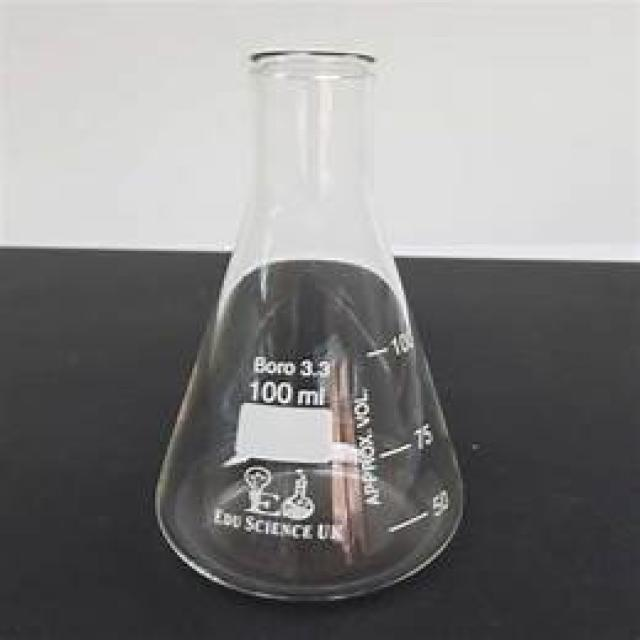Titrarion: (154, 56, 468, 602)
